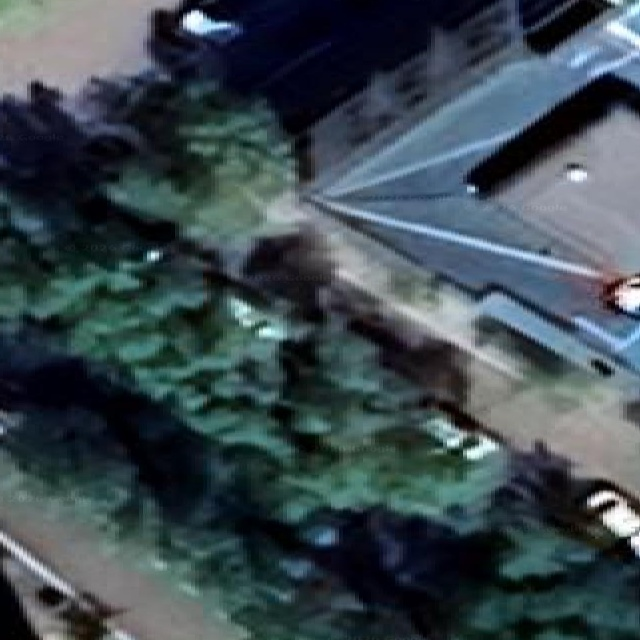car: (601, 274, 639, 316)
